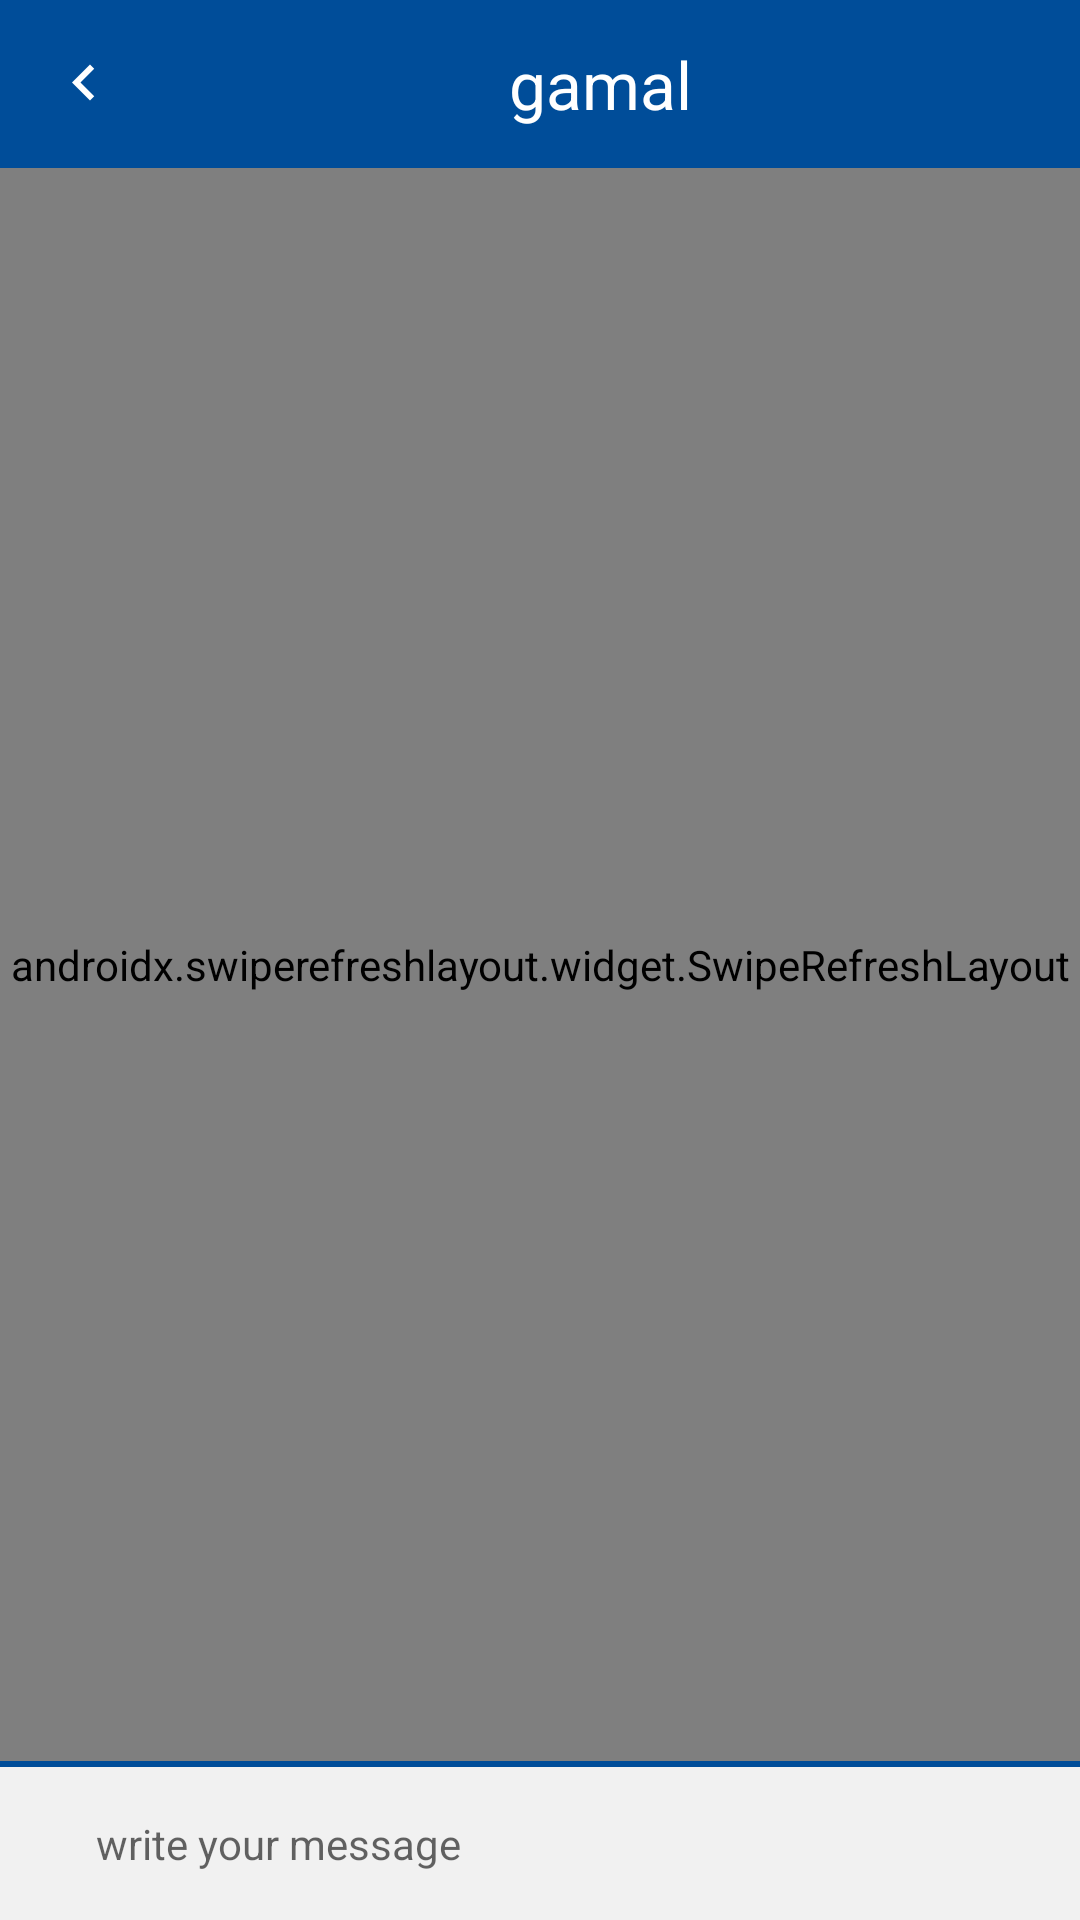

Icon click points for this 1080×1920 phone screenshot, format [x,y]:
arrow left: [83,82]
